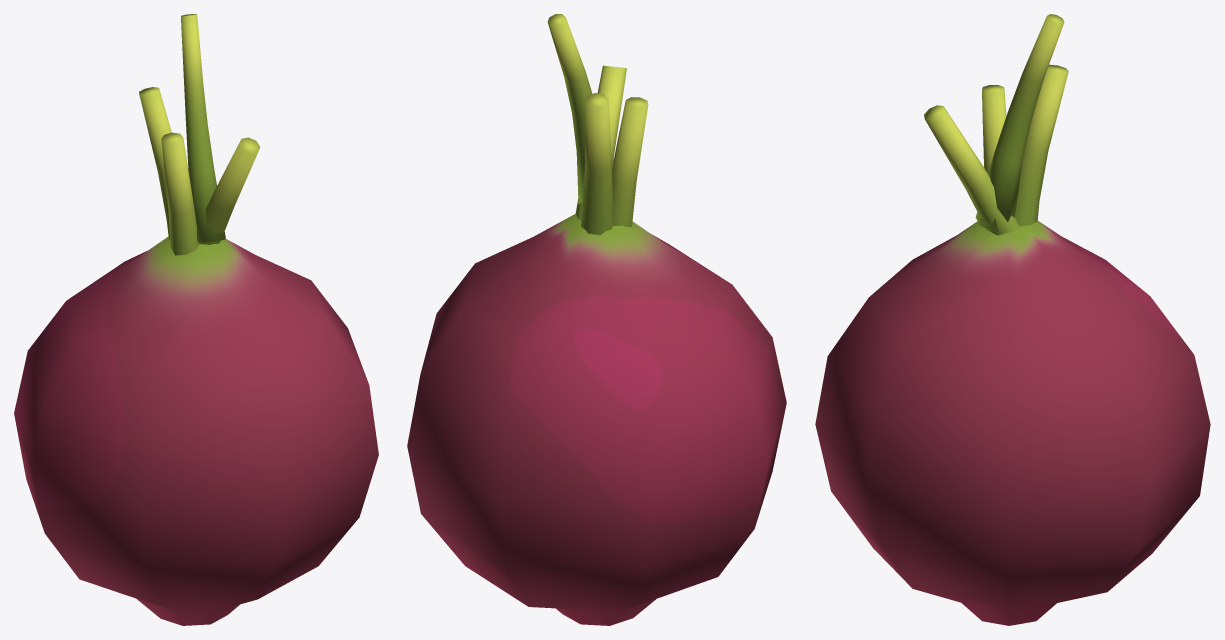
File: Red Onion.fbx
3 views of the same model, side by side, from view 1: azimuth 30°, elevation 25°; view 2: azimuth 150°, elevation 25°; view 3: azimuth 270°, elevation 25° (orthographic). The views are drawn at different scales.
Visible parts, largest first — view 1: Red Onion; view 2: Red Onion; view 3: Red Onion.
Boxes of the visible parts, x1,y1,x2,y2 form: Red Onion: [14, 14, 378, 625]; Red Onion: [407, 14, 786, 625]; Red Onion: [815, 14, 1210, 625].
Bounding box in the file's own units: 32.7 × 55.39 × 32.9.
